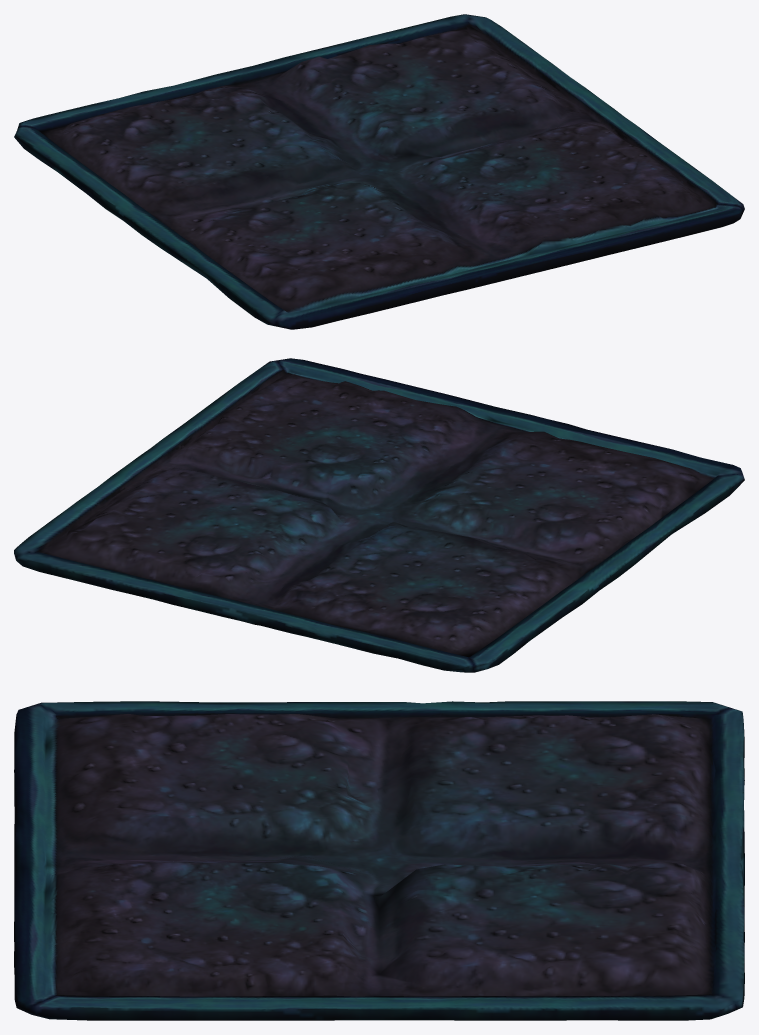
File: env_plot_AI.fbx
3 views of the same model, one above another, from view 1: azimuth 30°, elevation 25°; view 2: azimuth 150°, elevation 25°; view 3: azimuth 270°, elevation 25° (orthographic). The views are drawn at different scales.
Parts seen in each view (by area): view 1: env_plot; view 2: env_plot; view 3: env_plot.
Boxes of the visible parts, x1=… form: env_plot: x1=14, y1=14, x2=744, y2=329; env_plot: x1=14, y1=358, x2=744, y2=672; env_plot: x1=14, y1=701, x2=744, y2=1020.
Size of the model in its own units: 4 by 0.2 by 4.
